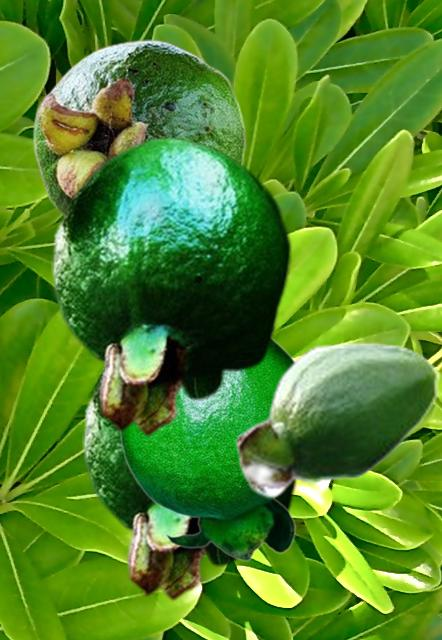guava: (51, 135, 292, 436), (82, 373, 300, 600), (118, 338, 298, 560), (32, 39, 246, 216), (235, 341, 440, 498)
